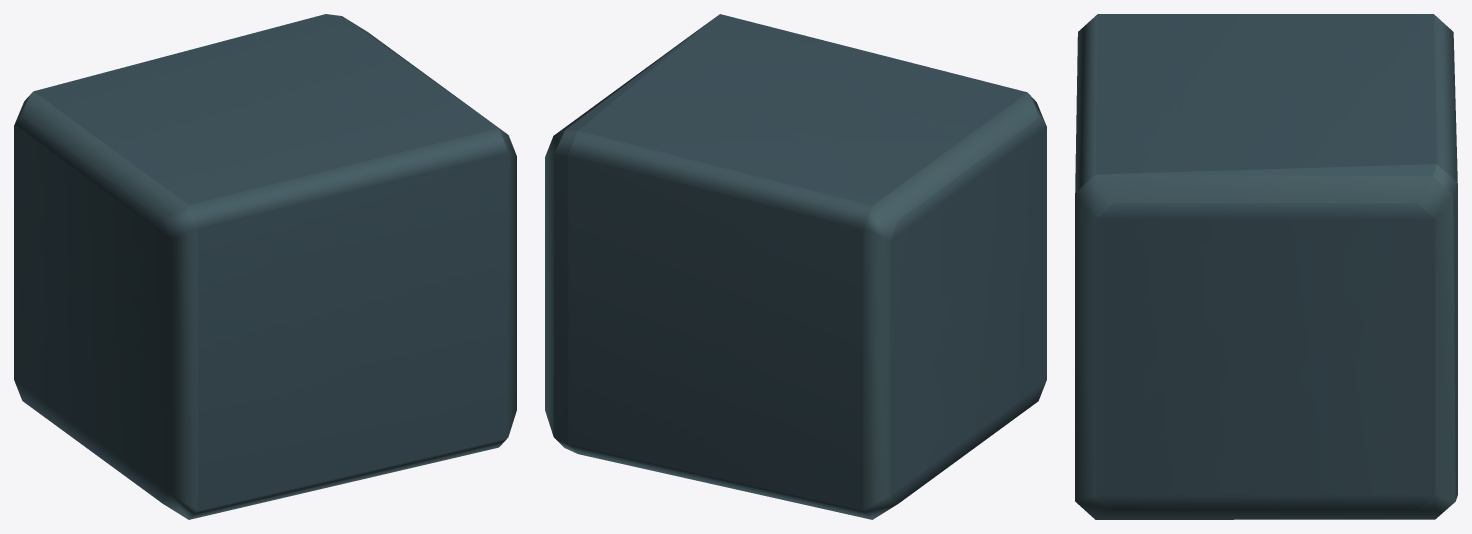
The model's file is pillar_medium_bridge_small.fbx.
3 renders of one model, left to right at view 1: azimuth 30°, elevation 25°; view 2: azimuth 150°, elevation 25°; view 3: azimuth 270°, elevation 25°, orthographic. The views are drawn at different scales.
Parts seen in each view (by area): view 1: pillar_medium_bridge_small; view 2: pillar_medium_bridge_small; view 3: pillar_medium_bridge_small.
Part boxes in pixels (left/top/right/bottom): pillar_medium_bridge_small: left=14, top=14, right=516, bottom=519; pillar_medium_bridge_small: left=545, top=14, right=1046, bottom=519; pillar_medium_bridge_small: left=1075, top=14, right=1457, bottom=519.
Bounding box in the file's own units: 109 × 97.36 × 96.37.
